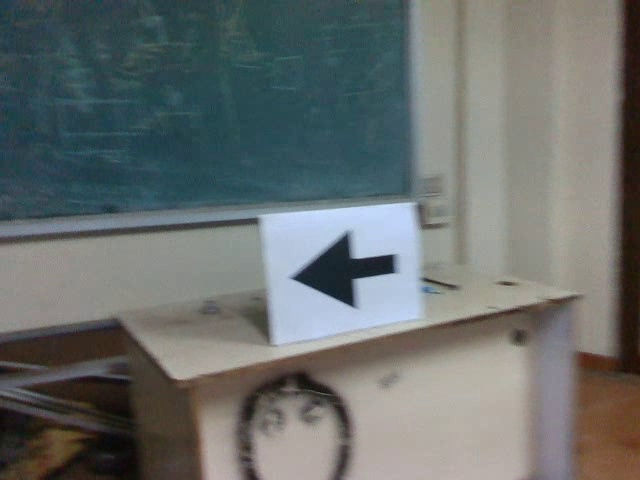Left: (285, 228, 405, 316)
